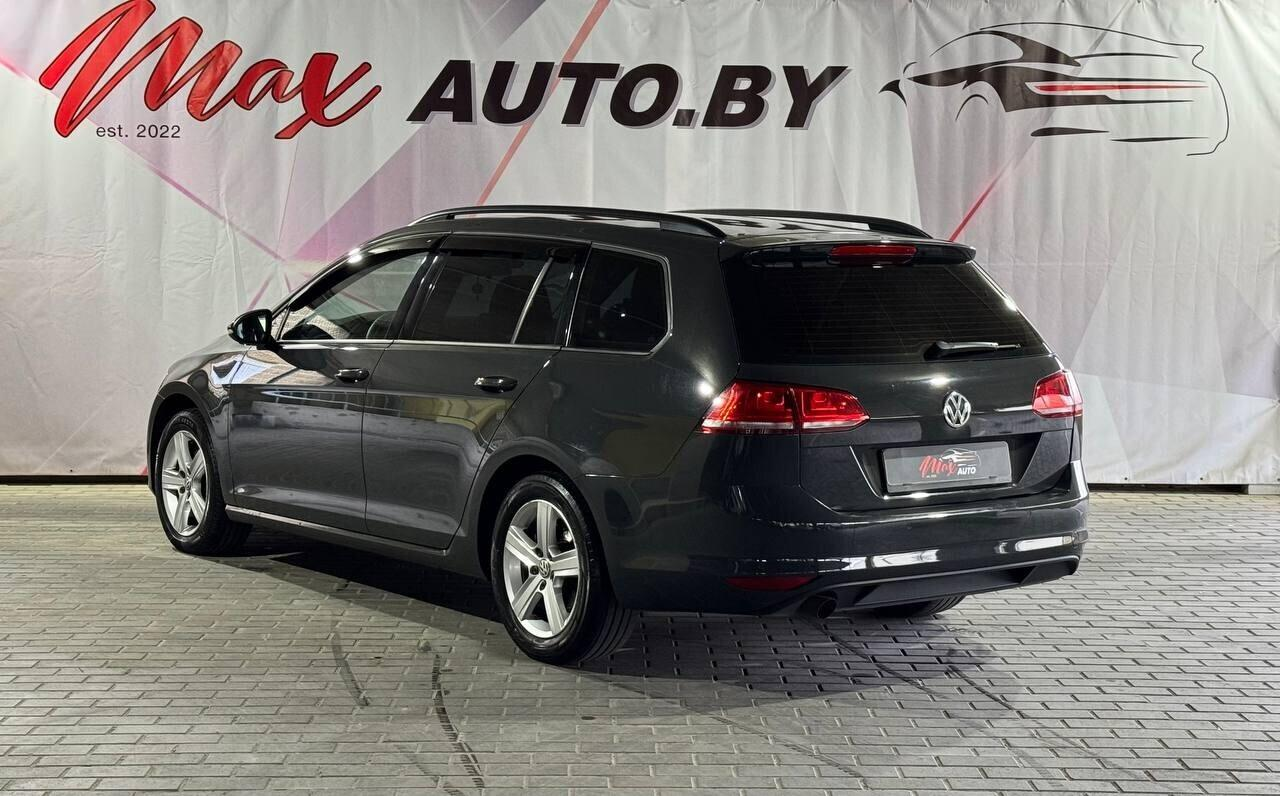Golf_2012-2017: (137, 202, 1093, 659)
